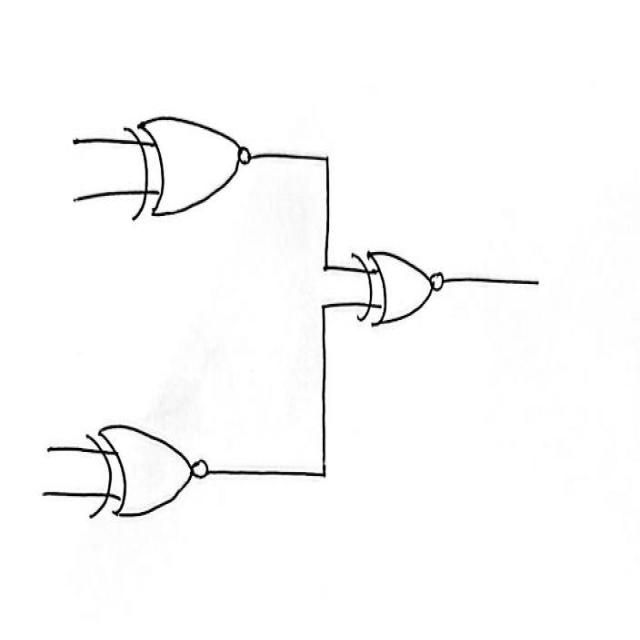XNOR: (80, 410, 222, 536), (121, 108, 258, 232), (344, 235, 461, 356)
